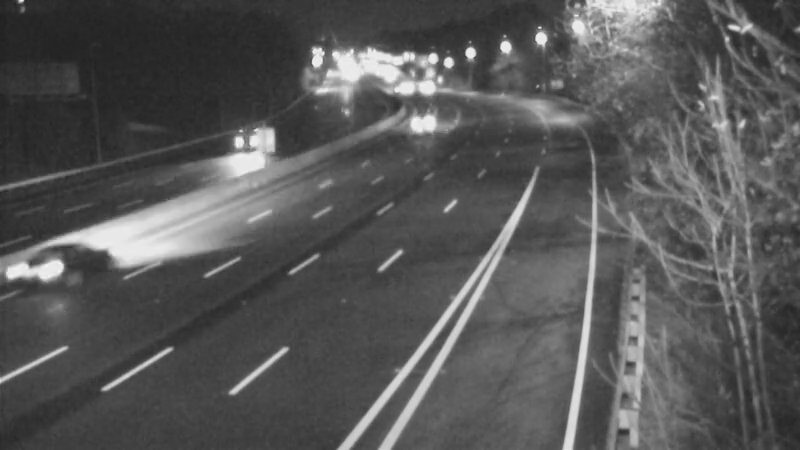vehicle: (1, 227, 79, 307), (402, 93, 452, 143), (215, 121, 265, 171)
